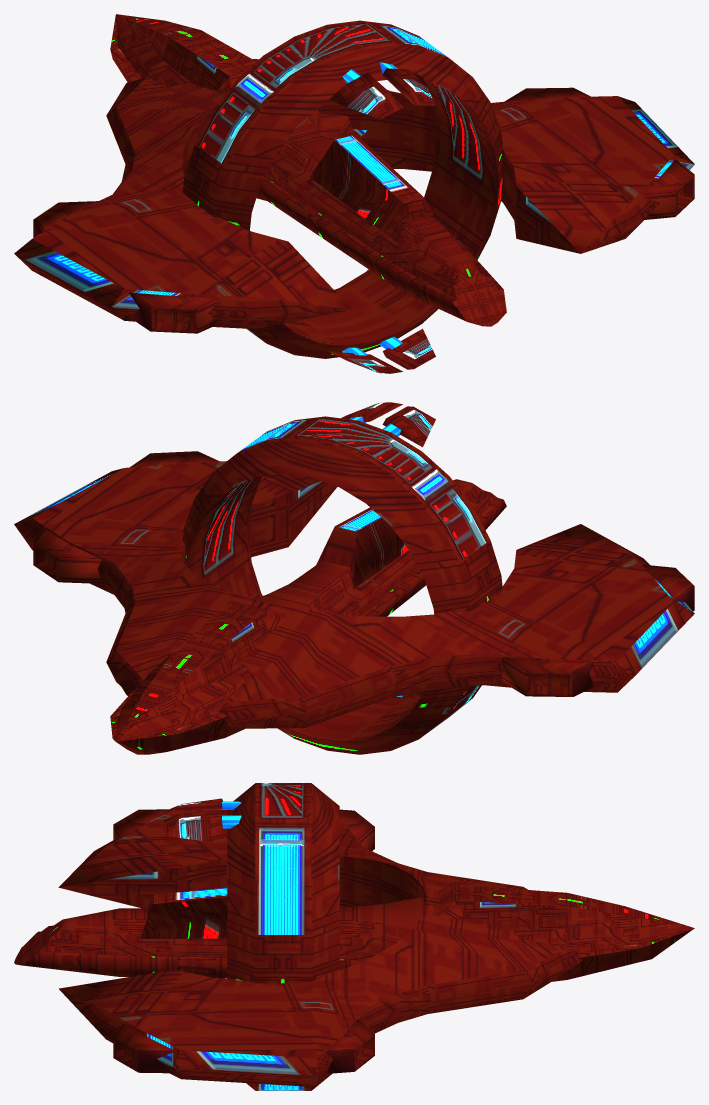
File: Vul_Sormir.fbx
3 renders of one model, top to bottom at view 1: azimuth 30°, elevation 25°; view 2: azimuth 150°, elevation 25°; view 3: azimuth 270°, elevation 25°, orthographic. The views are drawn at different scales.
Visible parts, largest first — view 1: Vul_Sormir; view 2: Vul_Sormir; view 3: Vul_Sormir.
Part boxes in pixels (x1=…): Vul_Sormir: x1=14, y1=14, x2=694, y2=373; Vul_Sormir: x1=14, y1=402, x2=694, y2=754; Vul_Sormir: x1=14, y1=783, x2=694, y2=1090.
Bounding box in the file's own units: 444 × 210 × 465.
1 material, 1 textured.
